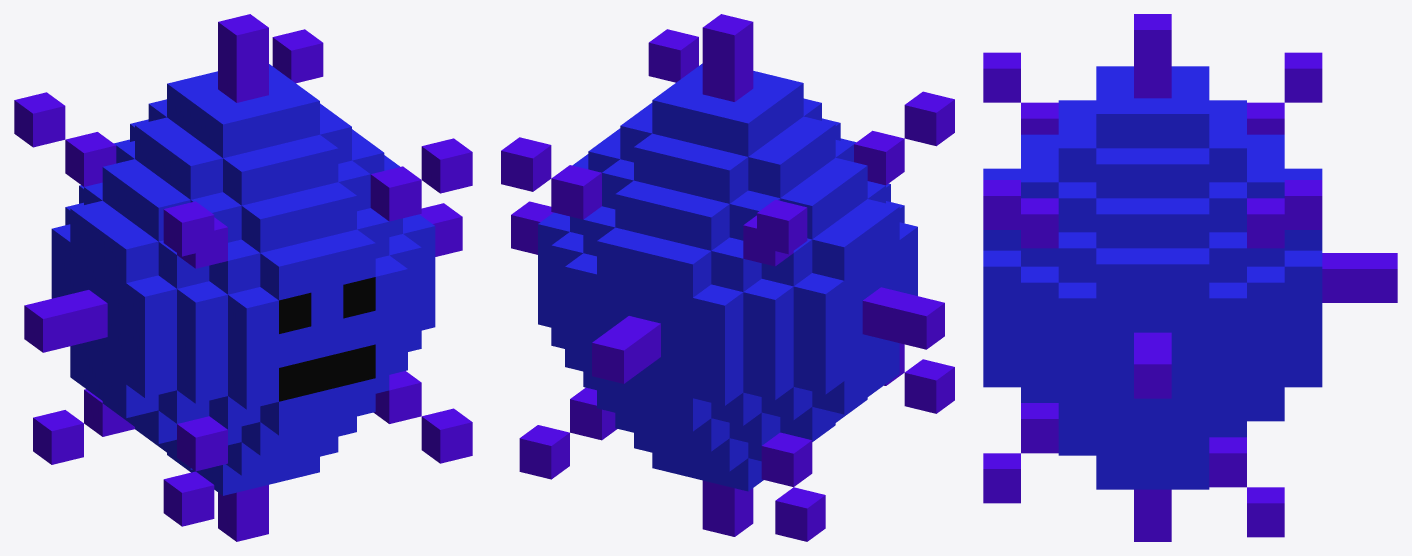
Rendered from uni.obj.
3 views of the same model, side by side, from view 1: azimuth 30°, elevation 25°; view 2: azimuth 150°, elevation 25°; view 3: azimuth 270°, elevation 25° (orthographic). The views are drawn at different scales.
Visible parts, largest first — view 1: Cube.015_Cube.15568; view 2: Cube.015_Cube.15568; view 3: Cube.015_Cube.15568.
Part boxes in pixels (bbox=[...]): Cube.015_Cube.15568: bbox=[14, 14, 472, 541]; Cube.015_Cube.15568: bbox=[501, 14, 954, 541]; Cube.015_Cube.15568: bbox=[983, 14, 1397, 541].
Bounding box in the file's own units: 0.8125 × 0.9375 × 0.6875.
